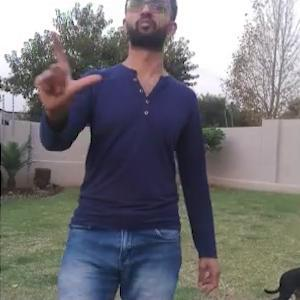land_hand: (28, 29, 104, 115)
